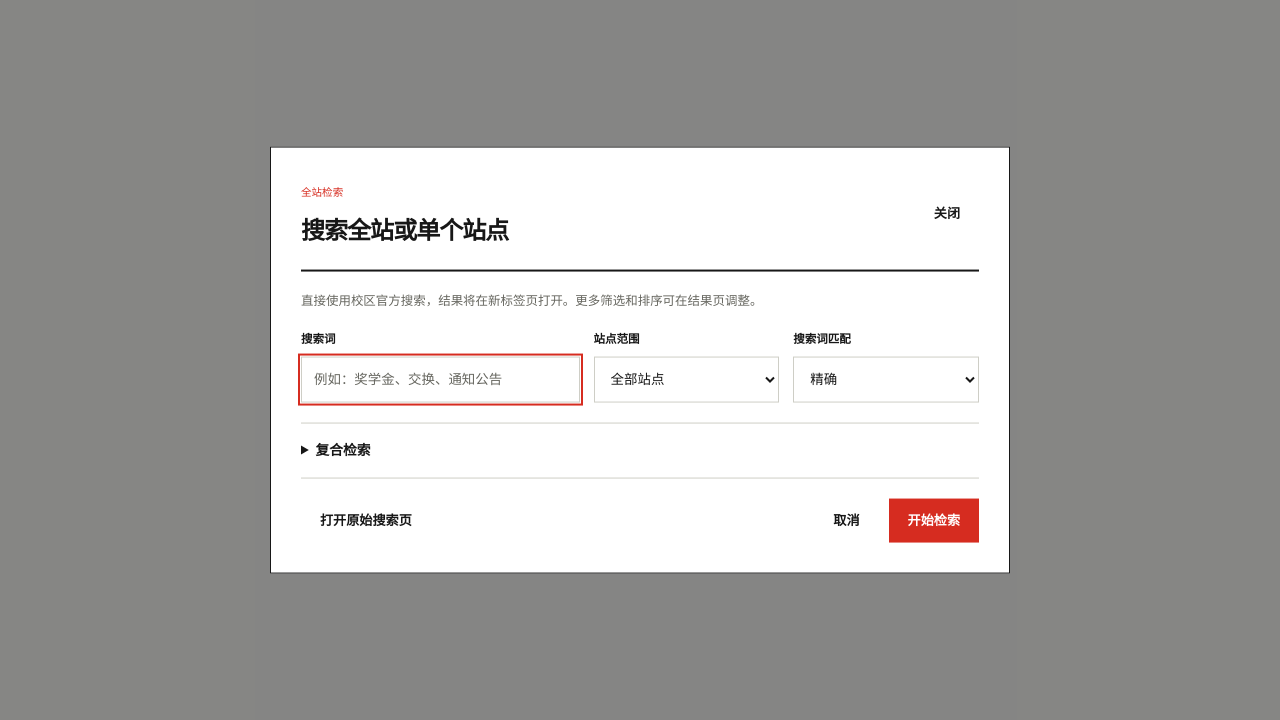
Test case: OfficialSearchDialog › reports an unsuccessful submission and keeps the modal open
The image size is (1280, 720).
Step 1. Click the button "开始检索" → (934, 520), box 888,498 -> 979,542
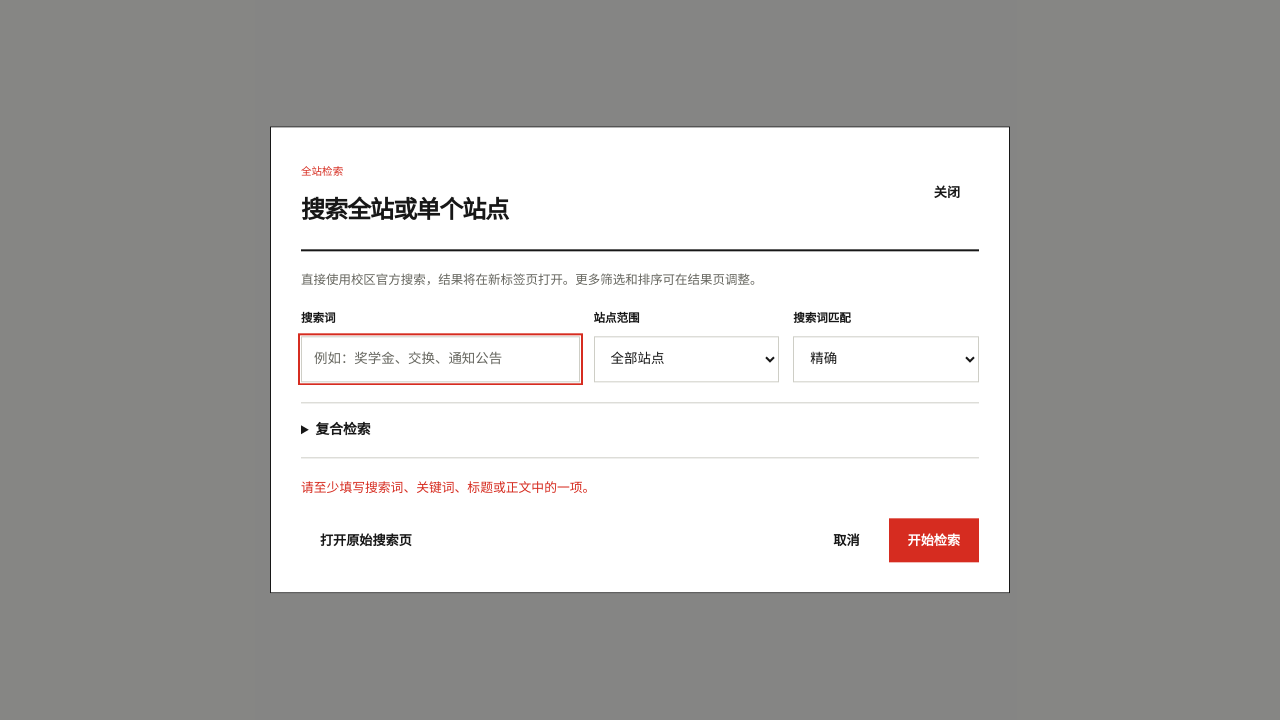
Expected: the dialog is shown, 270,126 -> 1010,594
Result: the message shows "请至少填写搜索词" at 301,480 -> 595,495
